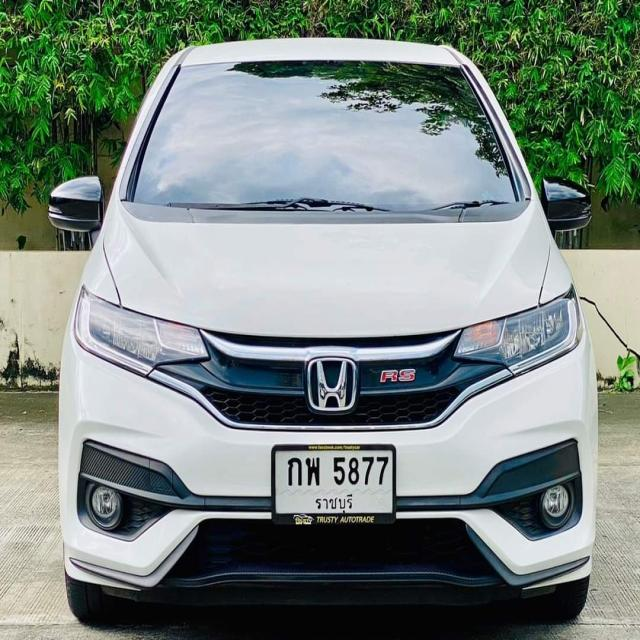license_plate: (270, 440, 399, 529)
